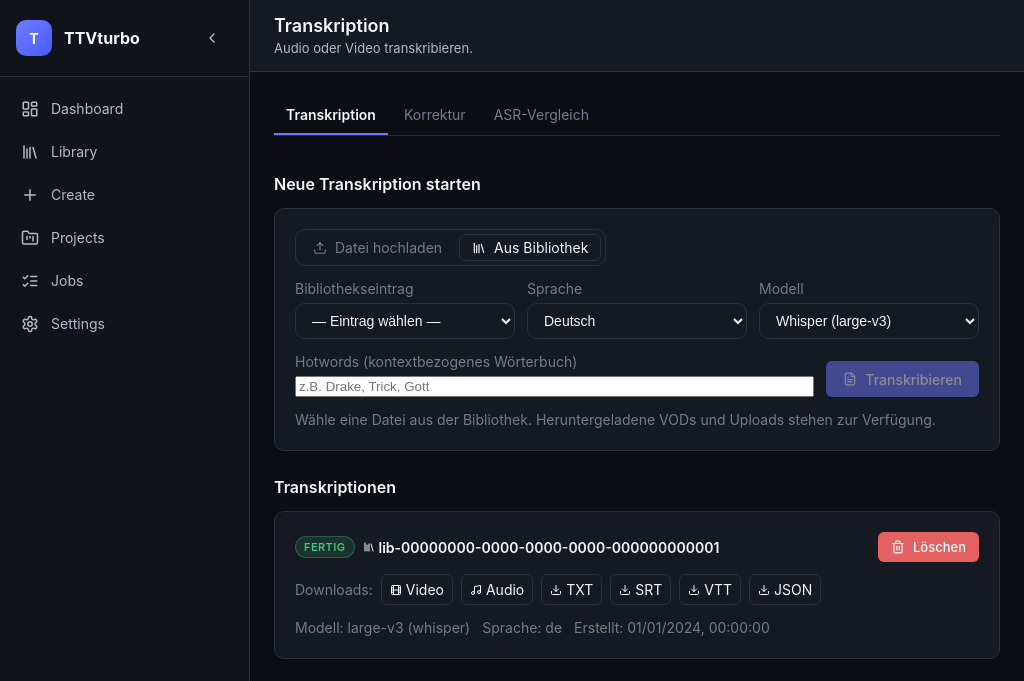
Test: Transcript editor frontend › shows a revision conflict error on HTTP 409
The width and height of the screenshot is (1024, 681).
Expected: the heading "Neue Transkription starten" is shown, x1=274 y1=174 x2=481 y2=194
Click the tab "Korrektur".
click(435, 116)  # box x1=392 y1=96 x2=478 y2=135
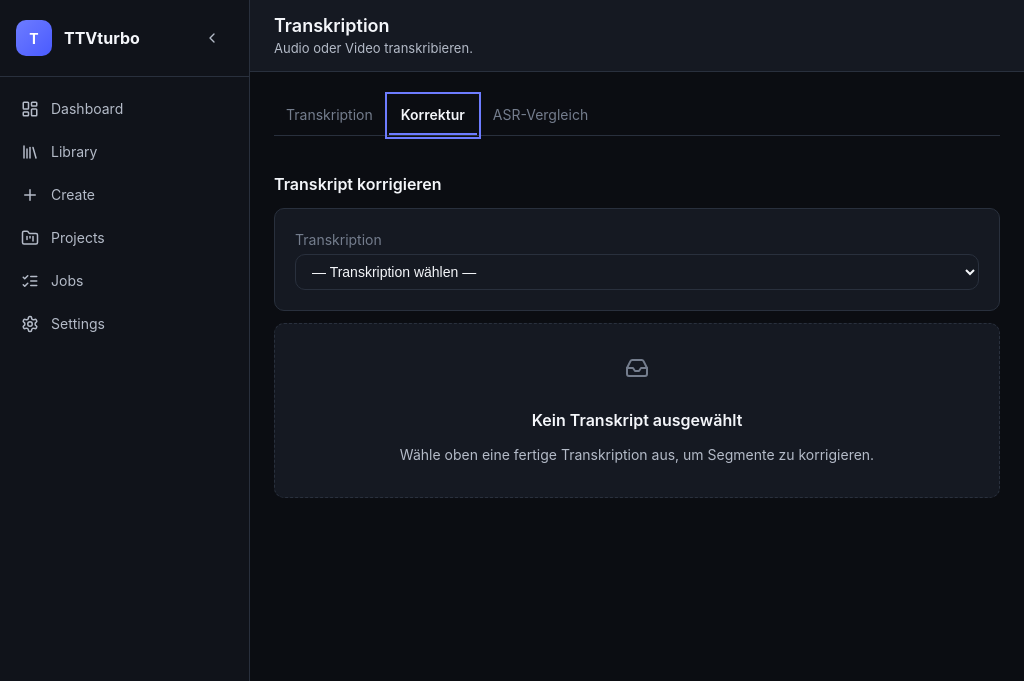
Result: the heading "Transkript korrigieren" is shown at x1=274 y1=174 x2=442 y2=194
Select "Test Upload · large-v3 · 01/01/2024, 00:00:00" in the dropdown labelled "Transkription" at (637, 272), box x1=295 y1=254 x2=979 y2=290
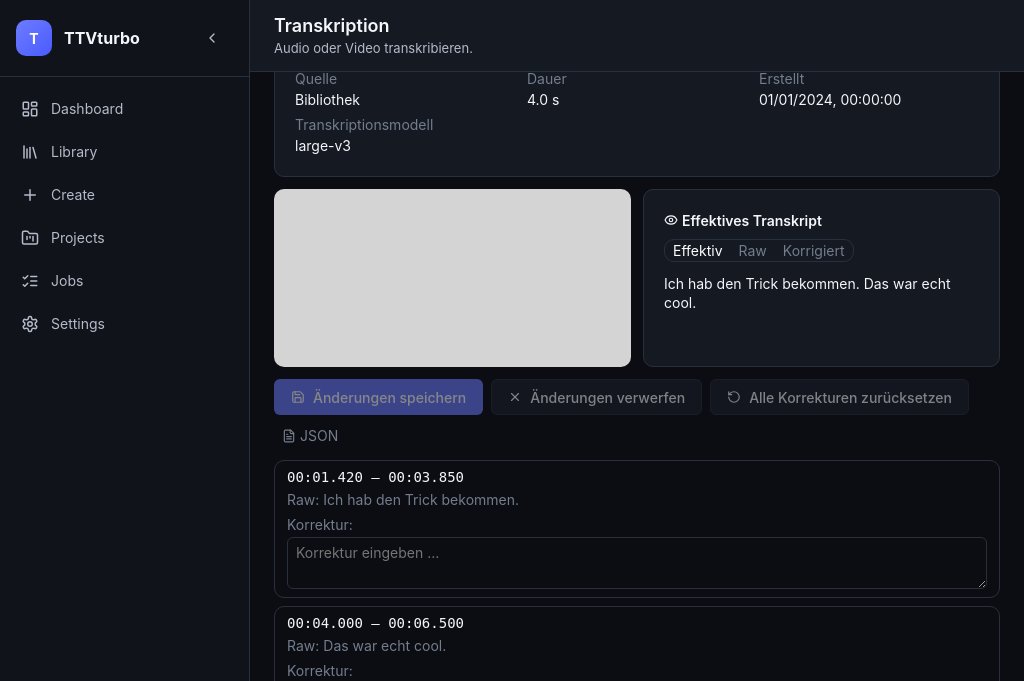
Result: the text "Ich hab den Trick bekommen." is shown at x1=323 y1=489 x2=519 y2=510
Type "Drake" into the 1st text box with placeholder "Korrektur eingeben …".
click(637, 563); type("Drake")  # box x1=287 y1=537 x2=987 y2=589
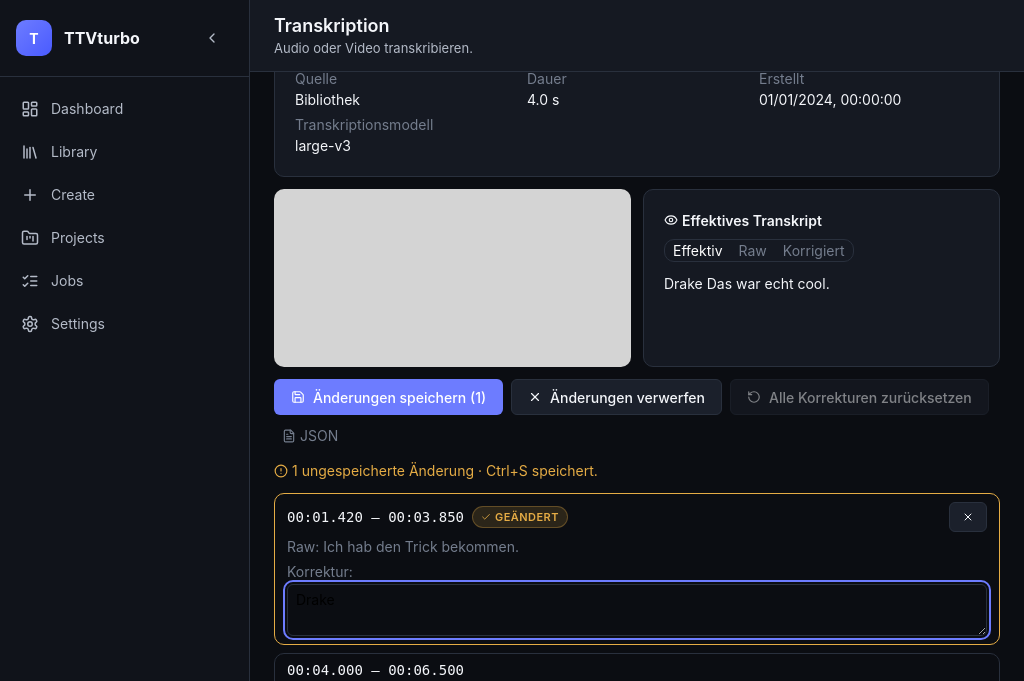
Click the button "Änderungen speichern (1)".
click(389, 397)  # box x1=274 y1=379 x2=503 y2=415
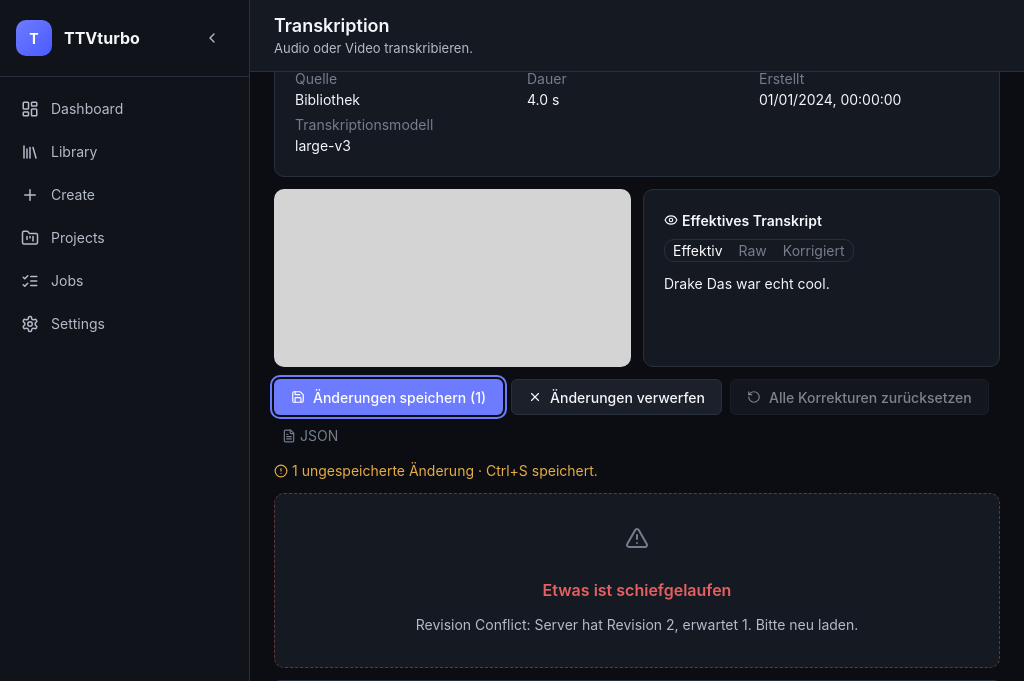
Result: the text "Revision Conflict" is shown at x1=416 y1=616 x2=858 y2=633
